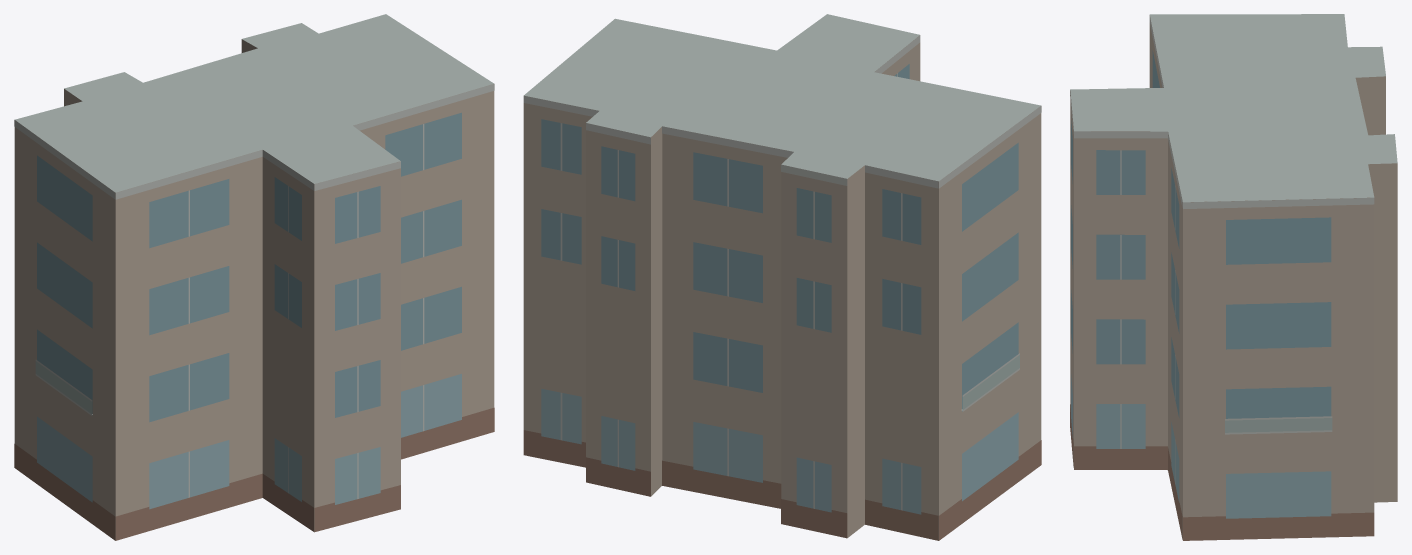
File: survey-upis-33022150.glb
3 renders of one model, left to right at view 1: azimuth 30°, elevation 25°; view 2: azimuth 150°, elevation 25°; view 3: azimuth 270°, elevation 25°, orthographic. The views are drawn at different scales.
Parts seen in each view (by area): view 1: survey-upis-33022150.tmp; view 2: survey-upis-33022150.tmp; view 3: survey-upis-33022150.tmp.
Part boxes in pixels (x1,y1,x2,y2): survey-upis-33022150.tmp: [14, 14, 494, 540]; survey-upis-33022150.tmp: [523, 14, 1041, 540]; survey-upis-33022150.tmp: [1070, 14, 1397, 540].
Bounding box in the file's own units: 14.41 × 12.05 × 10.57.
